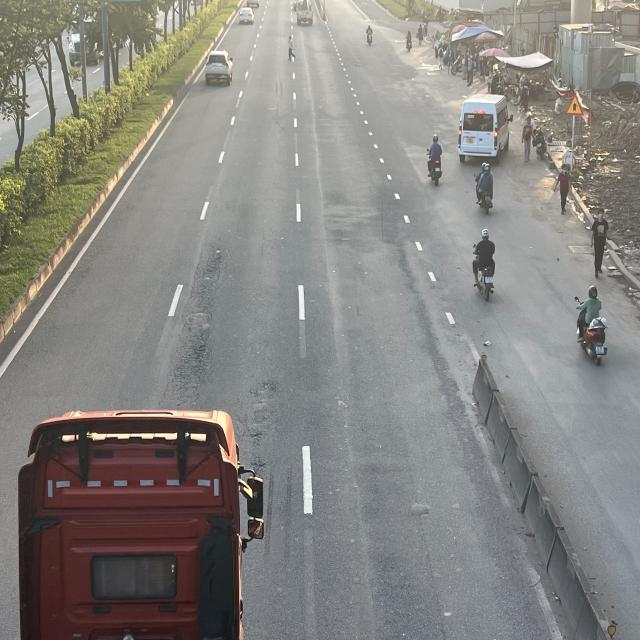container: (12, 407, 271, 640)
van: (458, 94, 514, 166)
